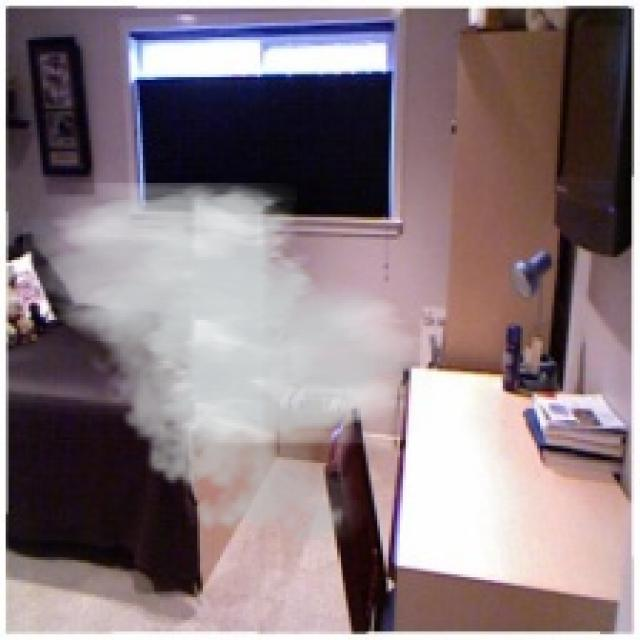smoke: (23, 183, 434, 554)
